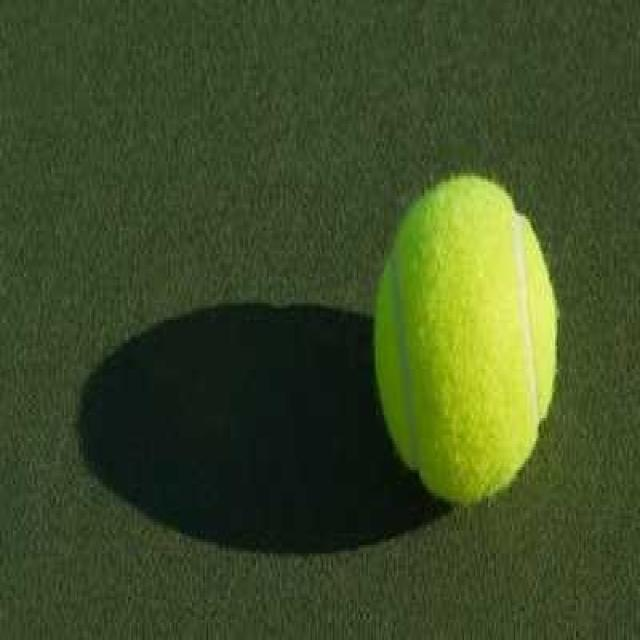Tennis_Ball: (369, 171, 562, 516)
